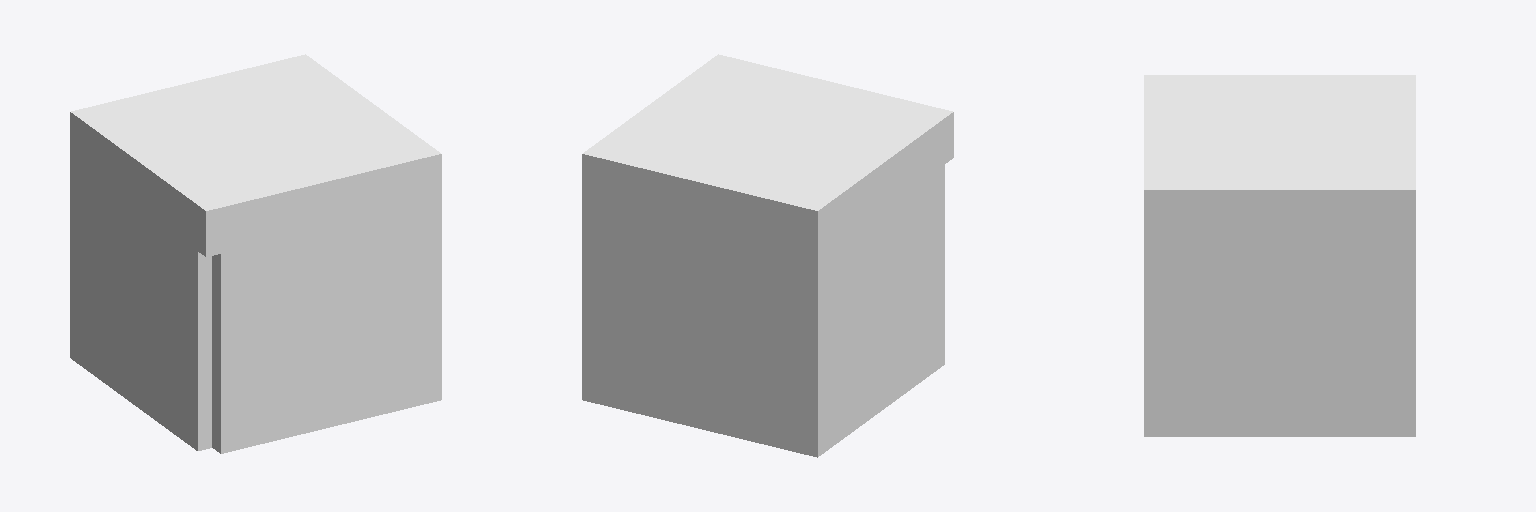
The model's file is WallsSimpleV1CornerSmall.obj.
3 views of the same model, side by side, from view 1: azimuth 30°, elevation 25°; view 2: azimuth 150°, elevation 25°; view 3: azimuth 270°, elevation 25° (orthographic).
Parts seen in each view (by area): view 1: object 1; view 2: object 1; view 3: object 1.
Boxes of the visible parts, x1=… form: object 1: x1=70, y1=54, x2=441, y2=453; object 1: x1=582, y1=54, x2=953, y2=457; object 1: x1=1144, y1=75, x2=1415, y2=436.
Size of the model in its own units: 1.6 by 1.6 by 1.6.